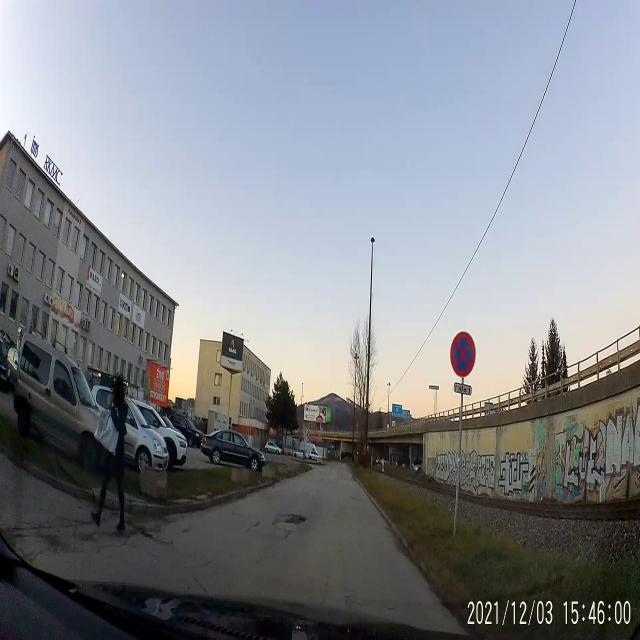Pothole: (270, 511, 308, 528)
